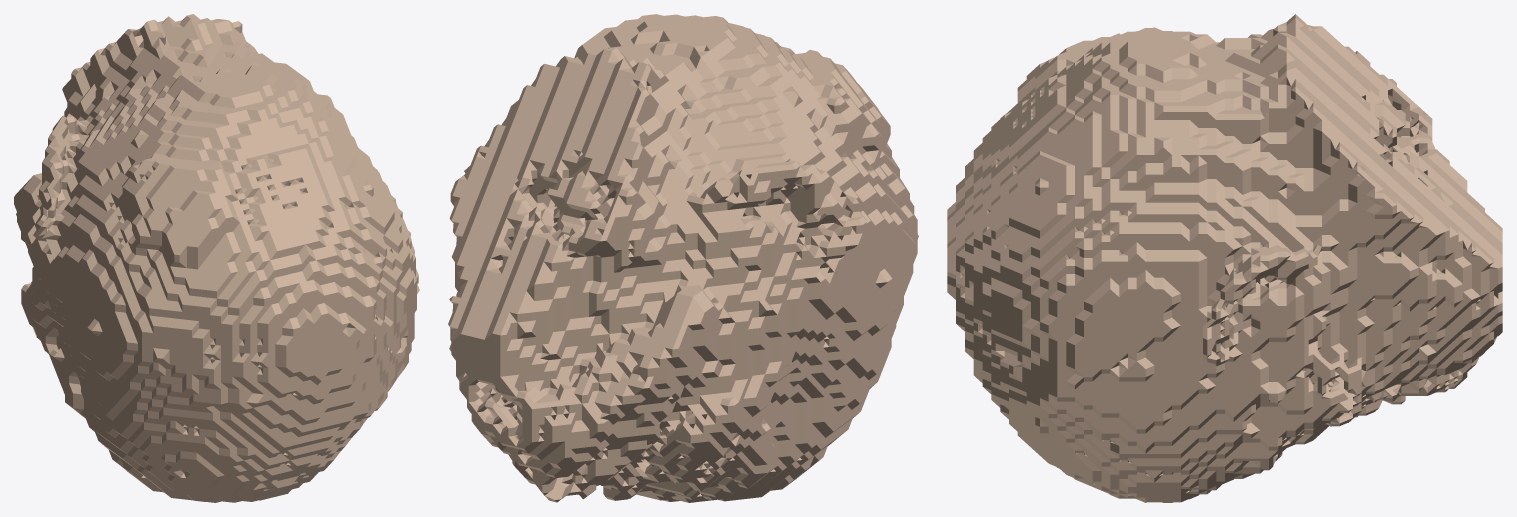
File: skull.glb
The picture shows the model from 3 angles, left to right: view 1: azimuth 30°, elevation 25°; view 2: azimuth 150°, elevation 25°; view 3: azimuth 270°, elevation 25°; orthographic projection. The views are drawn at different scales.
Parts seen in each view (by area): view 1: world; view 2: world; view 3: world.
Part boxes in pixels (x1,y1,x2,y2): world: (14,14,419,502); world: (448,14,918,502); world: (947,14,1502,502).
Bounding box in the file's own units: 180 × 209 × 227.
